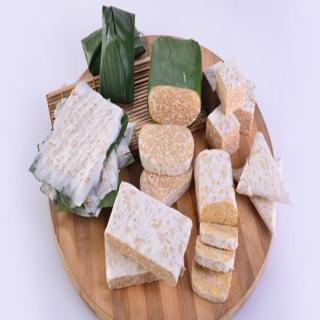Tempe: (235, 131, 294, 237), (147, 35, 203, 127), (82, 7, 146, 78), (99, 5, 136, 104), (216, 57, 258, 137), (139, 123, 195, 176), (140, 164, 194, 207), (148, 85, 202, 127), (192, 257, 233, 304), (206, 104, 242, 156), (202, 60, 225, 114)
